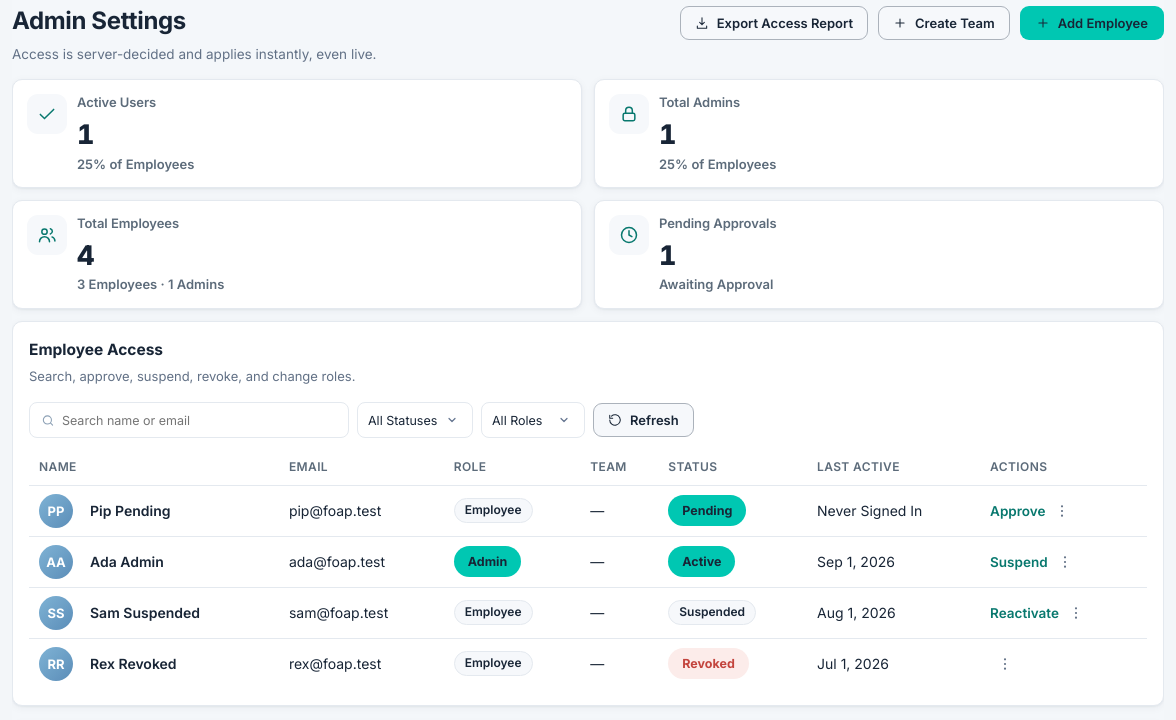
AdminEmployeesPage › confirms before invalidating sessions and reports the count
Expected: the button "Suspend" is shown, x1=990 y1=554 x2=1048 y2=570
Click the button named "More Actions For ada@foap.test" at {"x": 1065, "y": 562}, box x1=1050 y1=547 x2=1080 y2=577
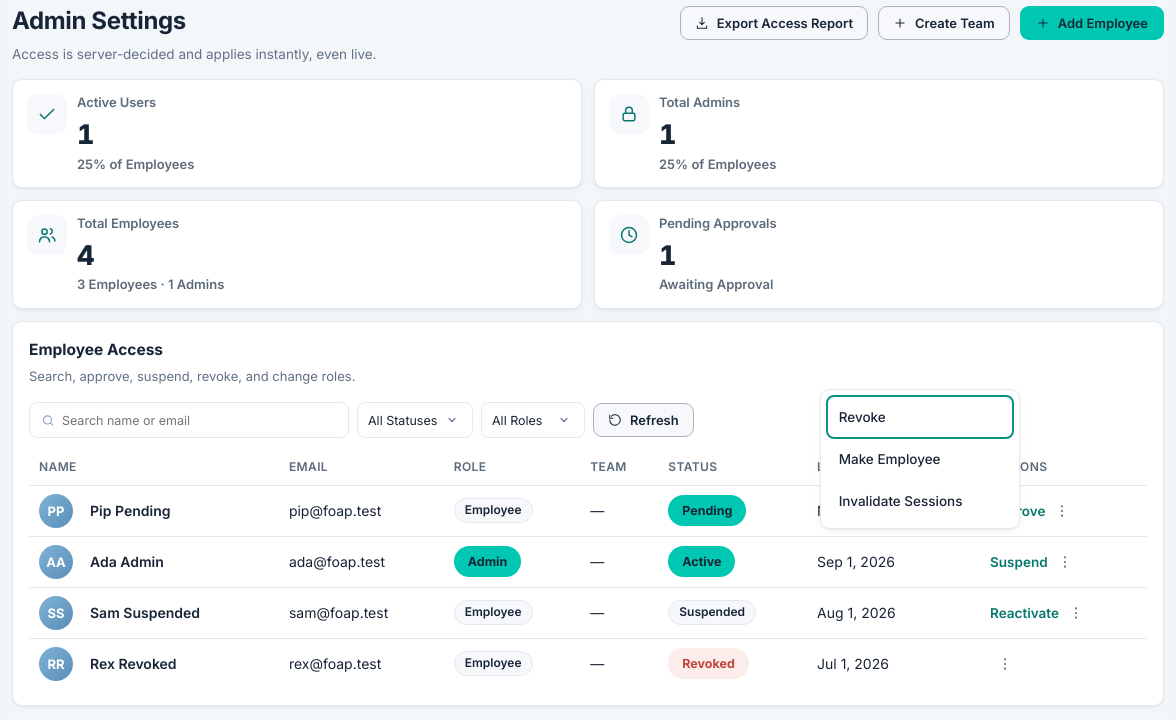
Click the menu item "Invalidate Sessions" at {"x": 920, "y": 501}, box x1=827 y1=480 x2=1013 y2=522
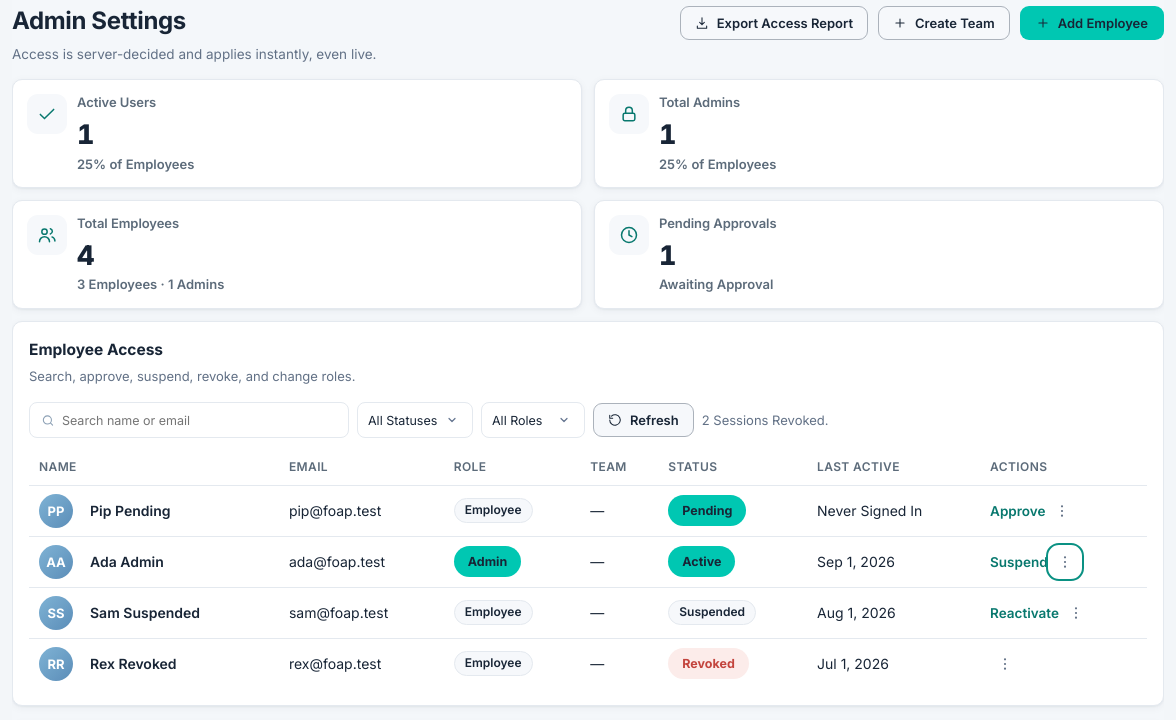
Now the text "2 Sessions Revoked." is shown, box x1=702 y1=410 x2=829 y2=430
